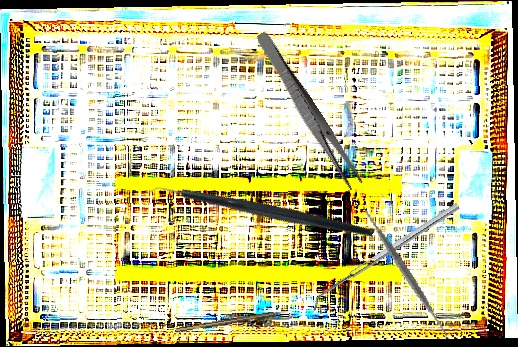Chopper: (139, 114, 376, 313)
Dressing Forceps: (251, 29, 365, 192)
Hook Surgical: (175, 308, 293, 334)
Spatula Surgical: (331, 199, 479, 344), (306, 202, 464, 313)
